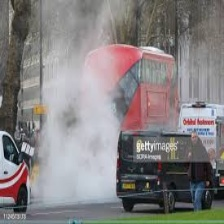smoke: (36, 80, 109, 209)
